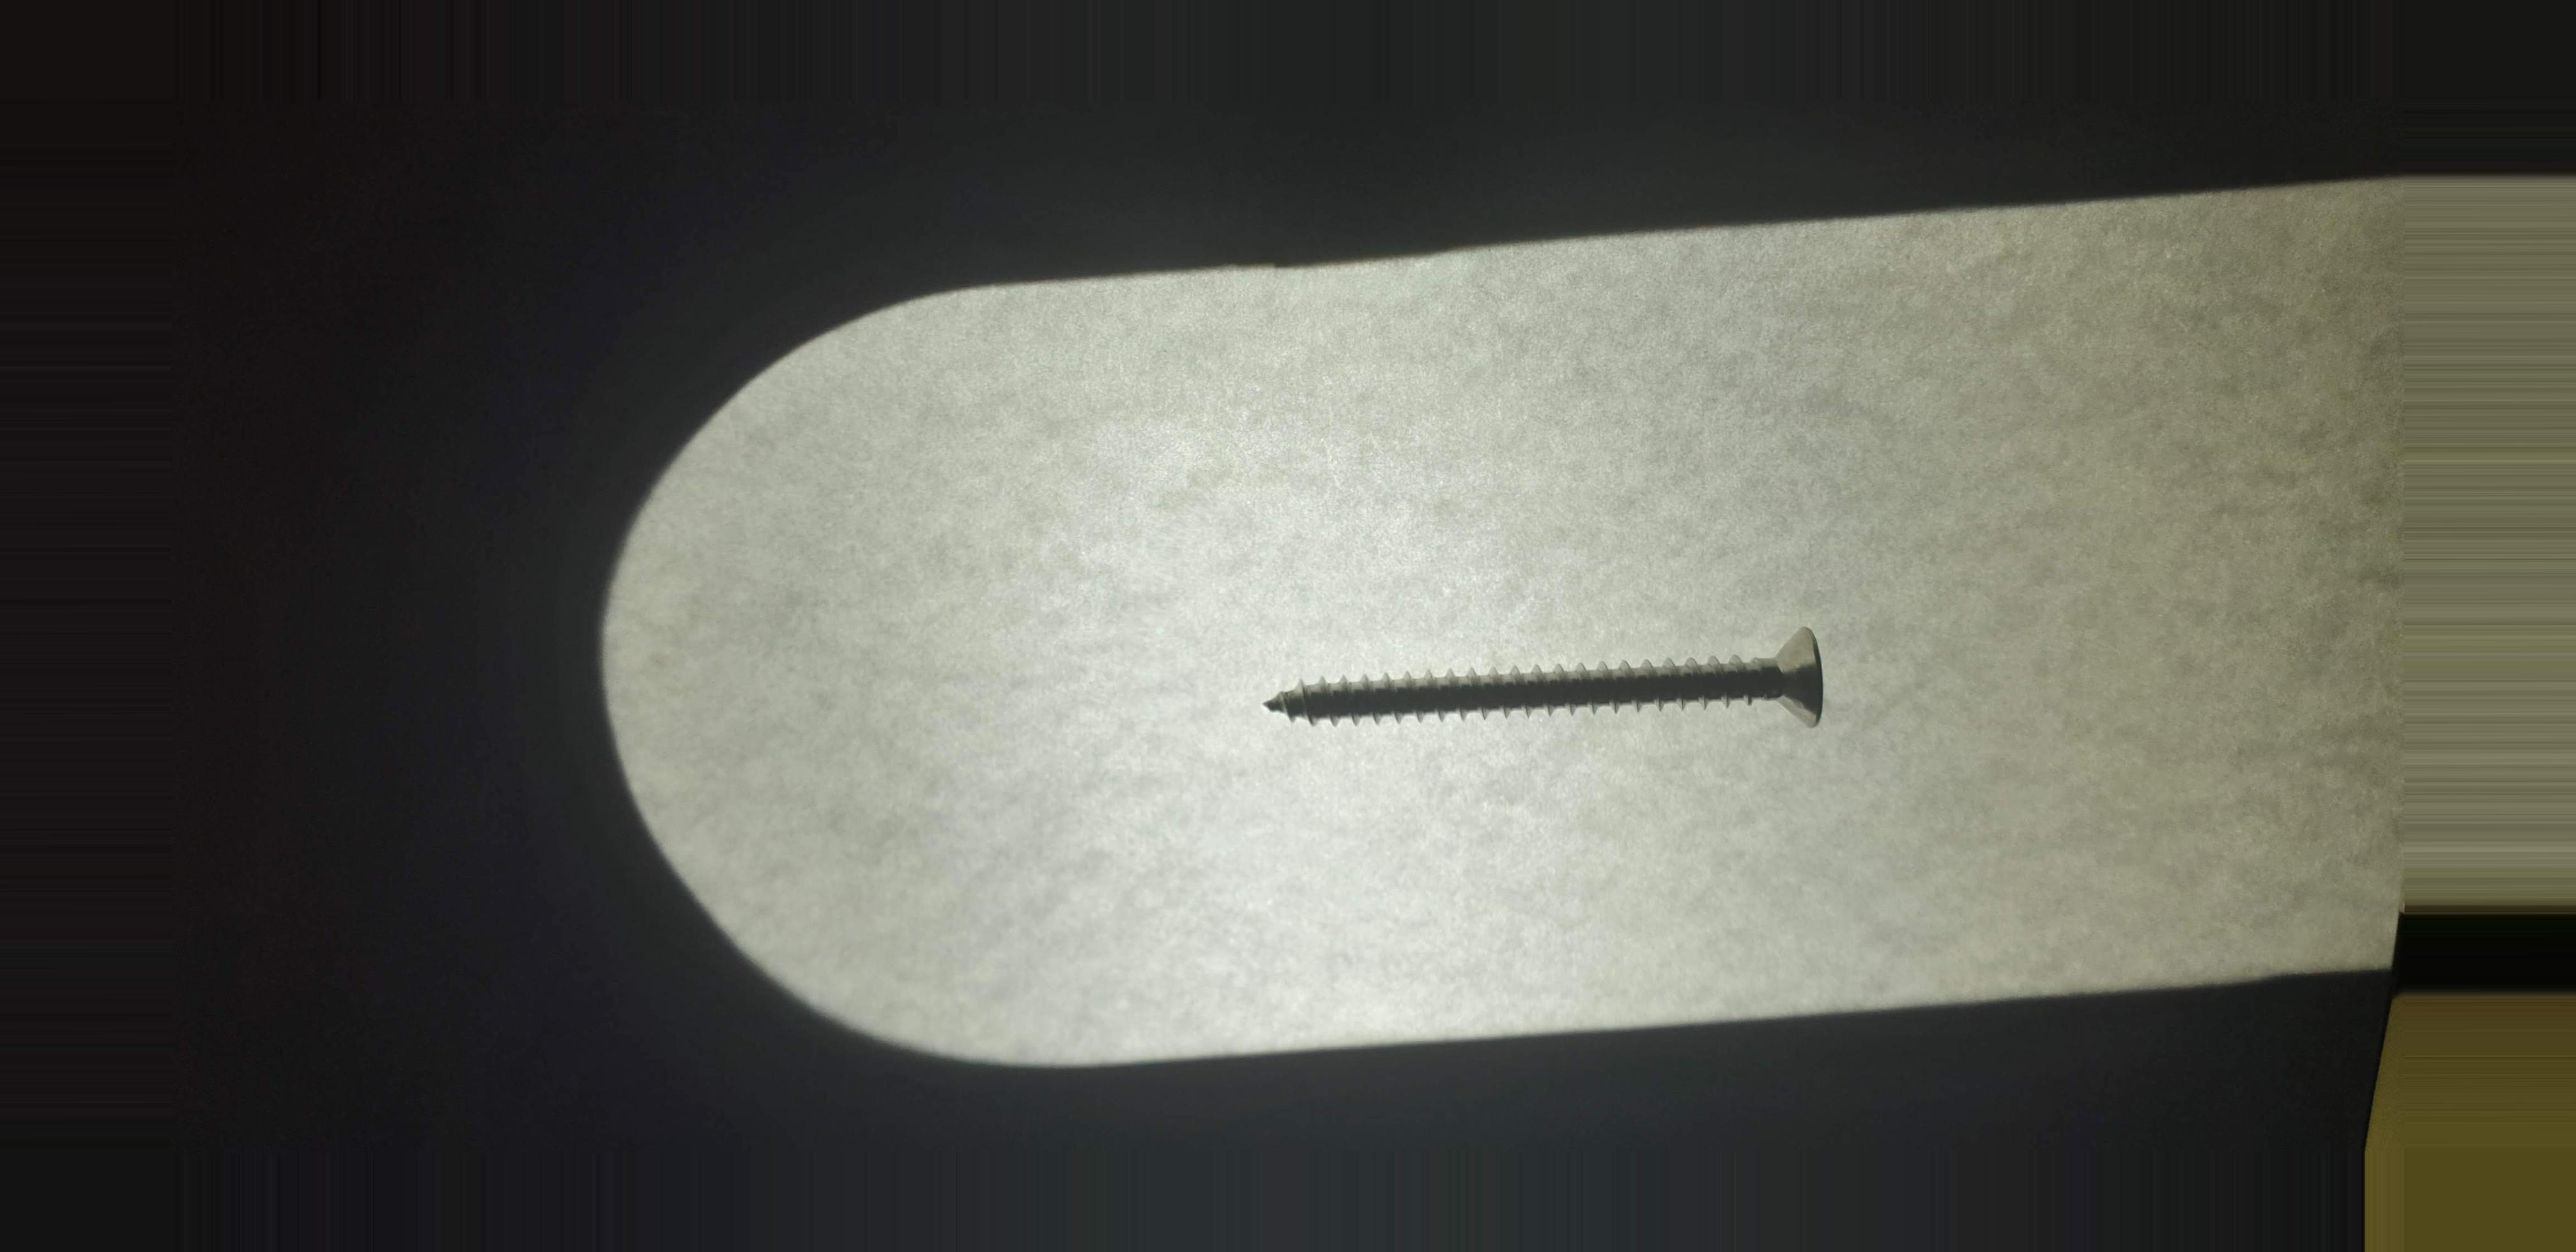S001: (1245, 611, 1870, 769)
